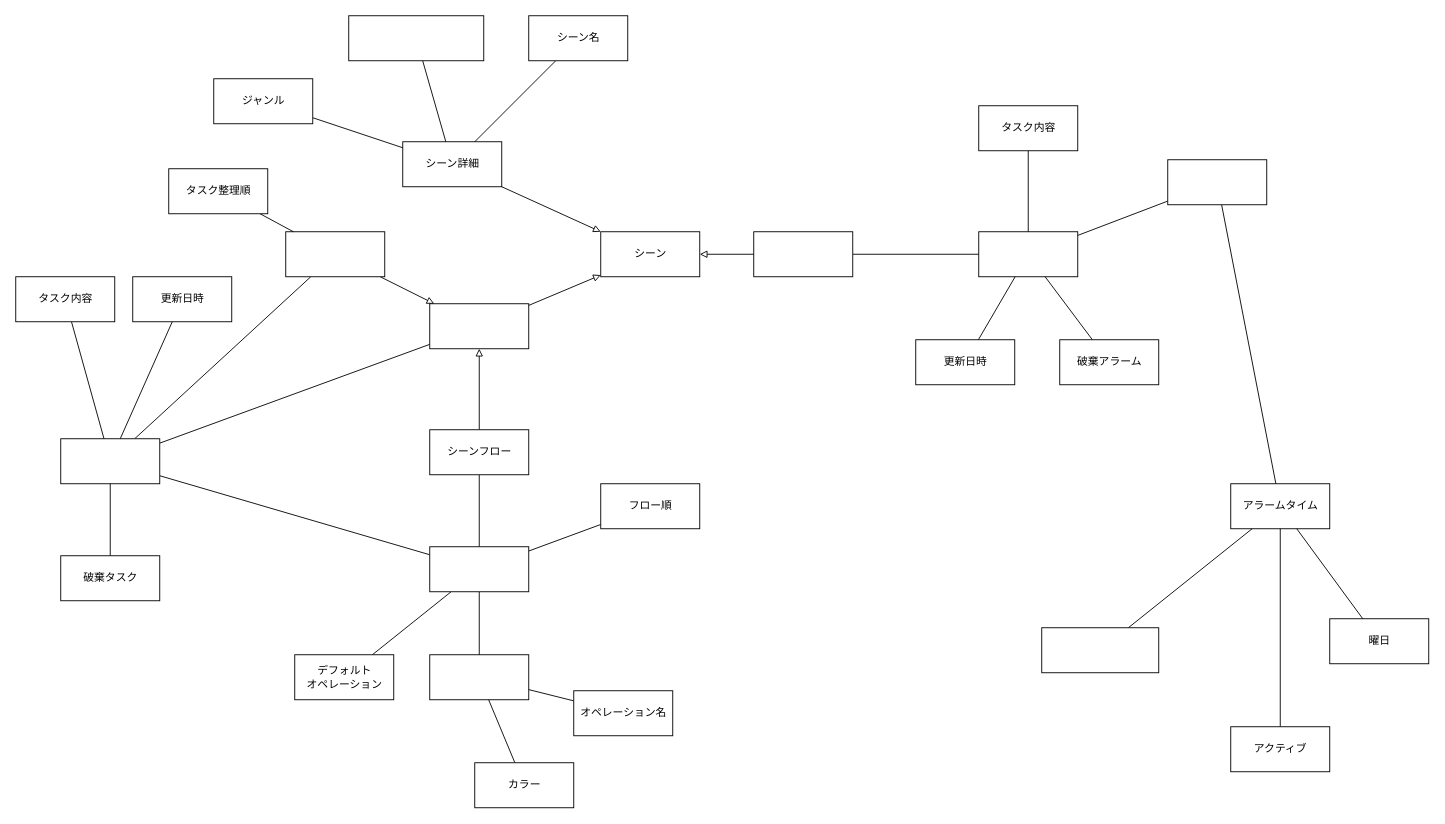
The diagram is 1445 pixels wide and 824 high, and some of its shapes have lost their labels. The centre of each missing label's shape, as x and y in pixels:
アラーム: point (1028, 254)
アラーム スケジュール: point (1217, 182)
アラームタイプ シーン: point (803, 254)
アラーム通知時間 （時間・分）: point (1100, 650)
オペレーション: point (479, 569)
オペレーション 詳細: point (479, 677)
タスク: point (110, 461)
タスクタイプ シーン: point (479, 326)
タスクボード: point (335, 254)
最終更新日時: point (416, 38)
